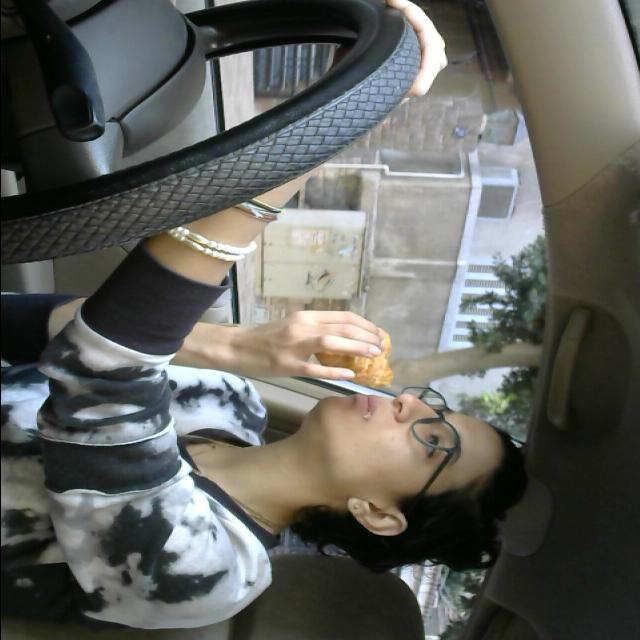eating: (275, 324, 410, 404)
